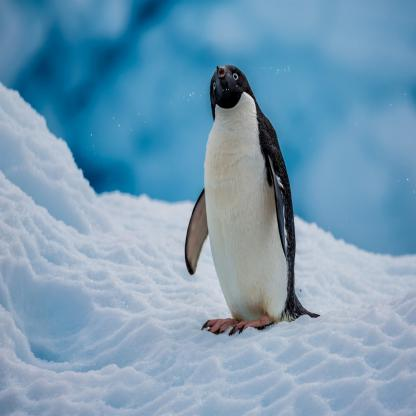Penguin: (166, 45, 334, 350)
